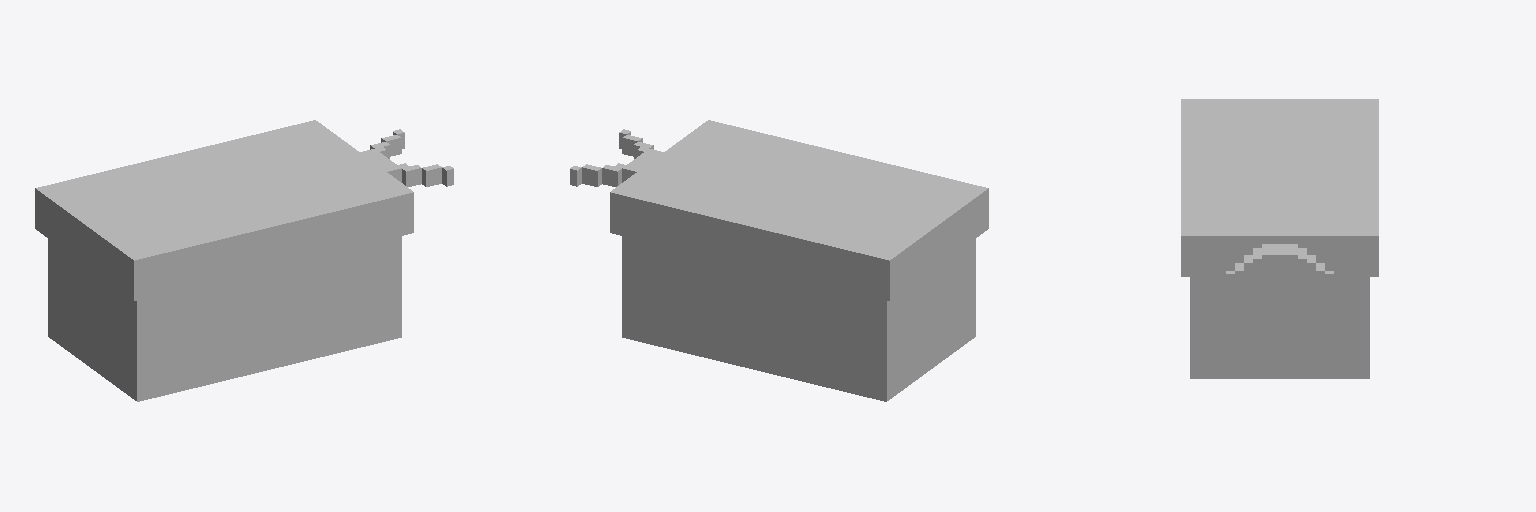
Rendered from Sushi 4.obj.
3 views of the same model, side by side, from view 1: azimuth 30°, elevation 25°; view 2: azimuth 150°, elevation 25°; view 3: azimuth 270°, elevation 25° (orthographic).
Parts seen in each view (by area): view 1: object 1; view 2: object 1; view 3: object 1.
Part boxes in pixels (x1,y1,x2,y2): object 1: (35,120,453,401); object 1: (570,120,988,401); object 1: (1181,99,1378,378).
Bounding box in the file's own units: 4.4 × 1.8 × 2.2.